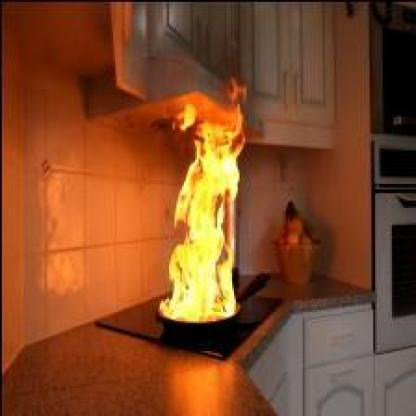Fire: (157, 101, 244, 317)
